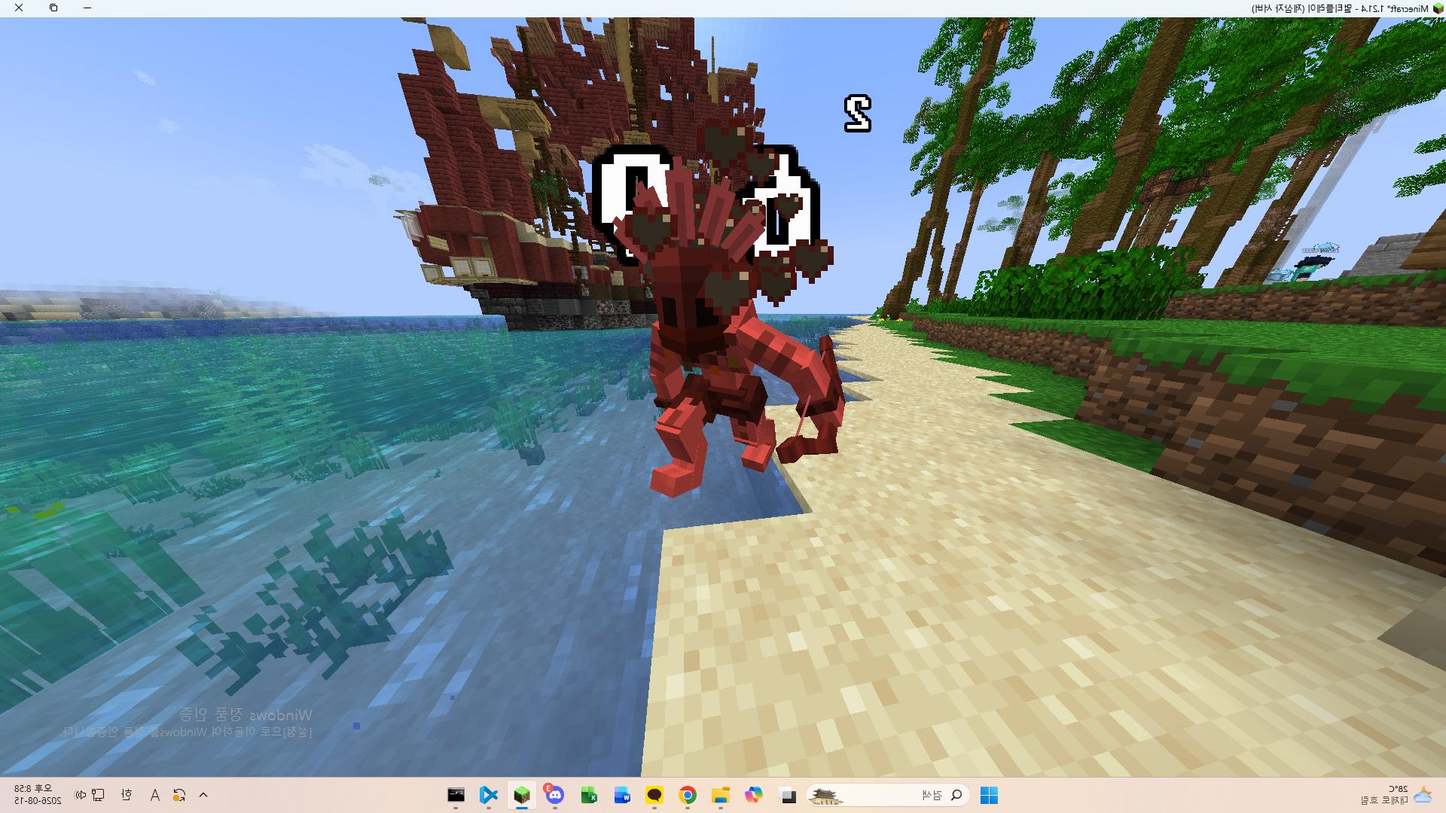bow_indian: (536, 148, 890, 544)
